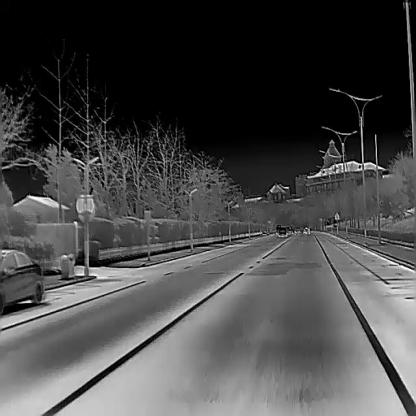car: (0, 248, 44, 311), (284, 225, 292, 235), (278, 228, 286, 236), (302, 227, 310, 234), (275, 224, 281, 233), (294, 226, 300, 233)
